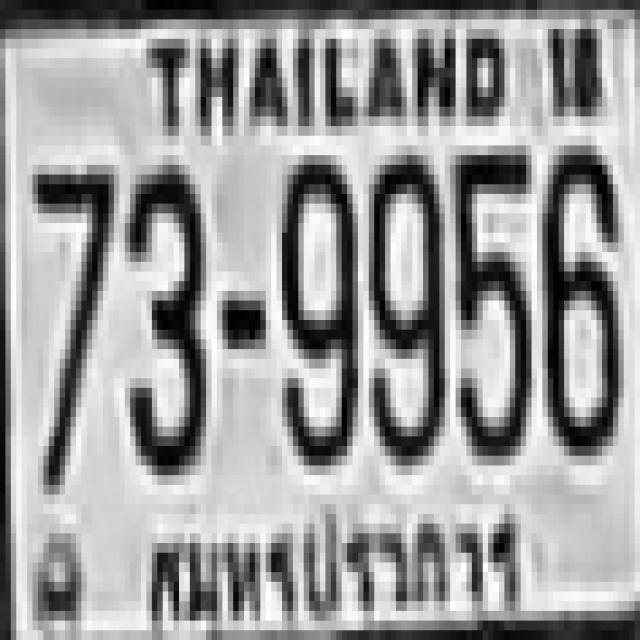3: (124, 155, 200, 466)
5: (450, 145, 526, 456)
6: (537, 136, 618, 446)
7: (27, 155, 109, 485)
9: (276, 145, 352, 456), (366, 145, 442, 456)
SamutPrakan: (145, 491, 532, 640)
